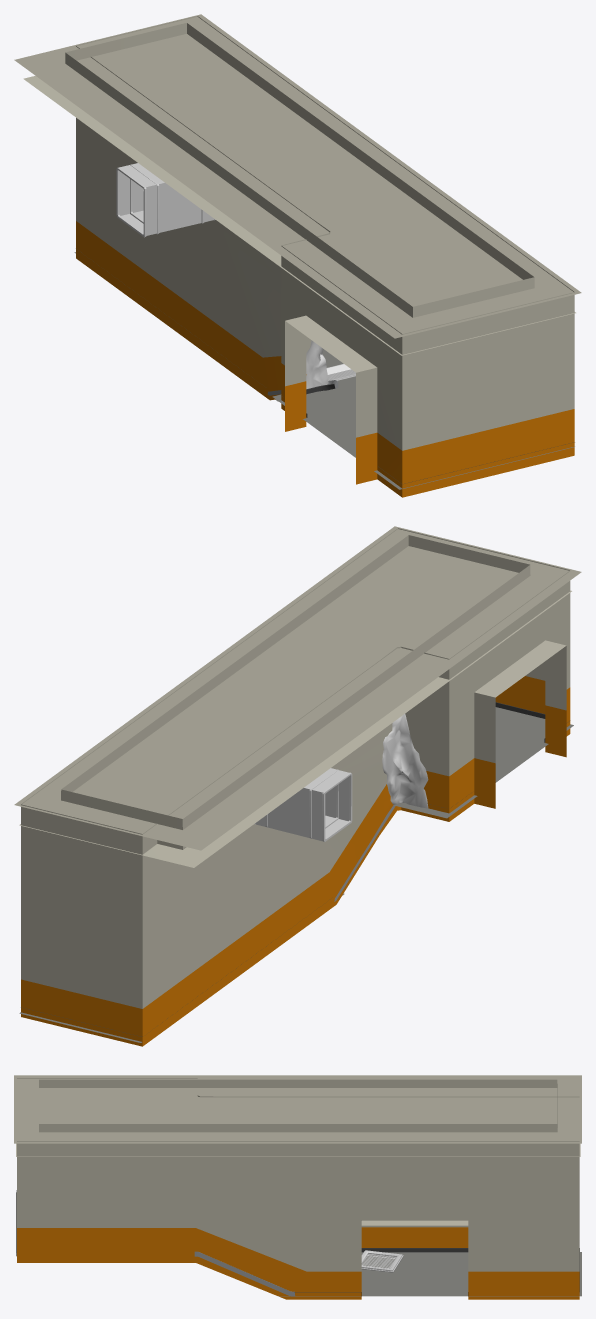
File: SM_H_Building_Tide_Examinationroom_03_ATLAS.fbx
3 views of the same model, one above another, from view 1: azimuth 30°, elevation 25°; view 2: azimuth 150°, elevation 25°; view 3: azimuth 270°, elevation 25° (orthographic). The views are drawn at different scales.
Visible parts, largest first — view 1: SM_H_Building_Tide_Examinationroom_03_ATLAS; view 2: SM_H_Building_Tide_Examinationroom_03_ATLAS; view 3: SM_H_Building_Tide_Examinationroom_03_ATLAS.
Part boxes in pixels (x1=…): SM_H_Building_Tide_Examinationroom_03_ATLAS: x1=14, y1=14, x2=581, y2=497; SM_H_Building_Tide_Examinationroom_03_ATLAS: x1=14, y1=526, x2=581, y2=1046; SM_H_Building_Tide_Examinationroom_03_ATLAS: x1=14, y1=1075, x2=581, y2=1299.
Bounding box in the file's own units: 609 × 1936 × 625.
